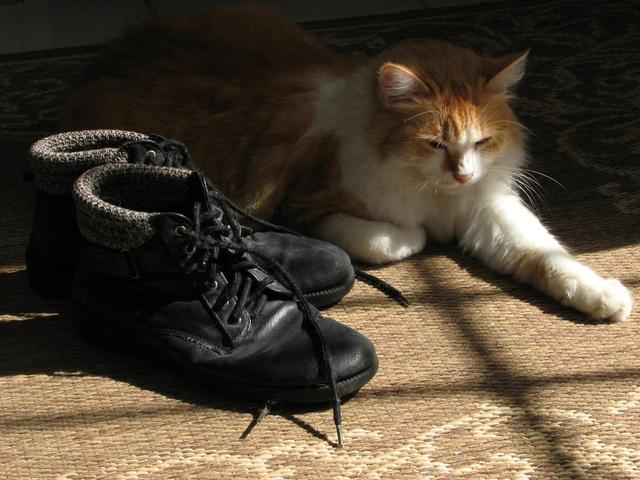cat: (298, 18, 630, 362)
